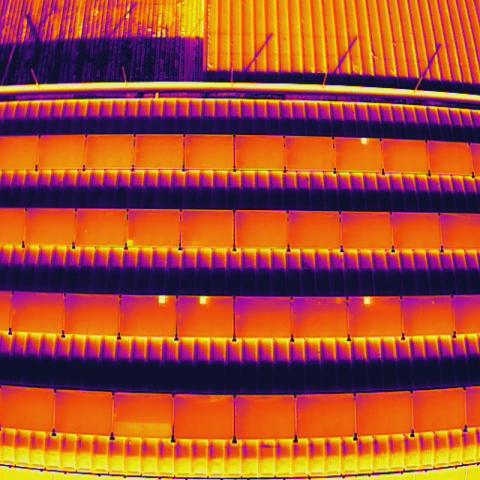fault: (156, 294, 167, 305), (199, 295, 209, 306), (362, 296, 372, 306), (360, 136, 369, 146), (126, 238, 134, 247)
